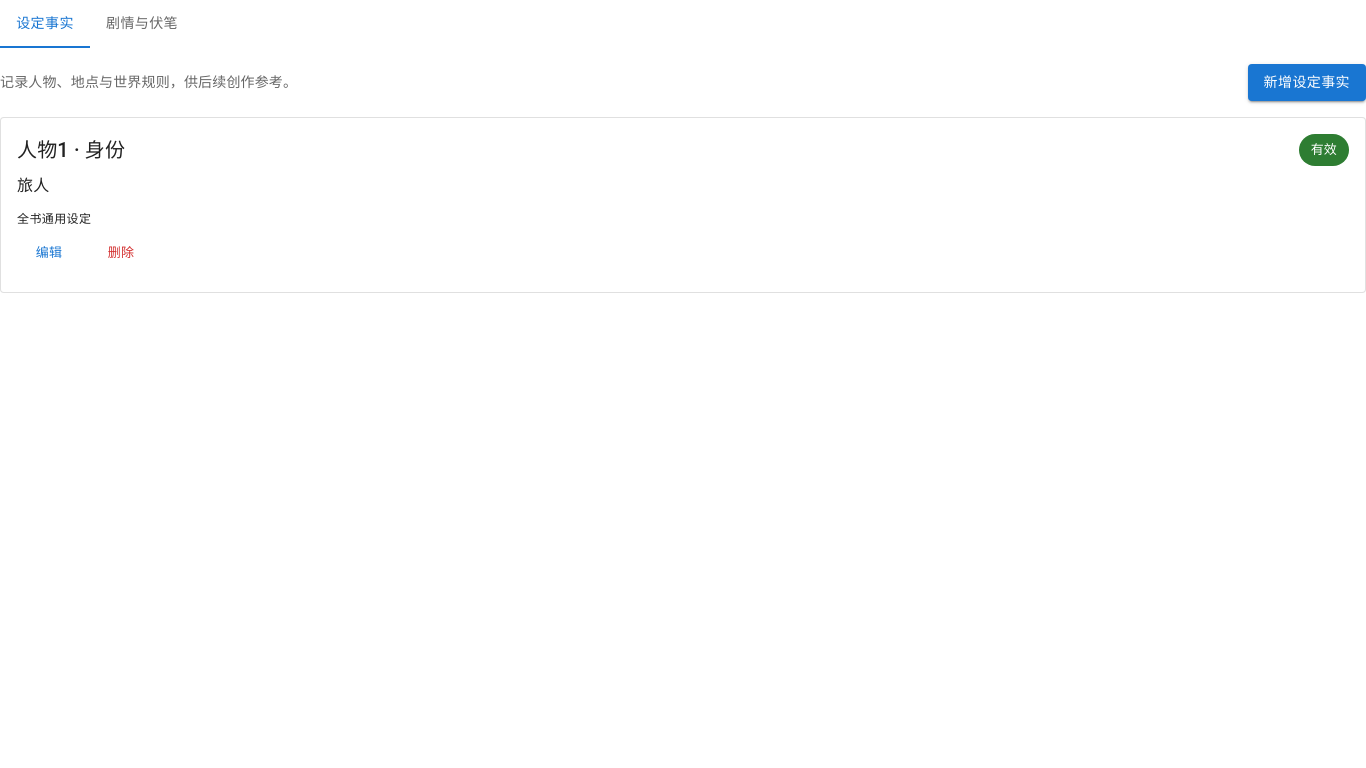
Scenario: 设定账本作者操作 › 删除需要确认，成功后从列表移除
The image size is (1366, 768).
Click the button with aria-label "删除人物1".
click(121, 253)  # box [89,238,153,268]
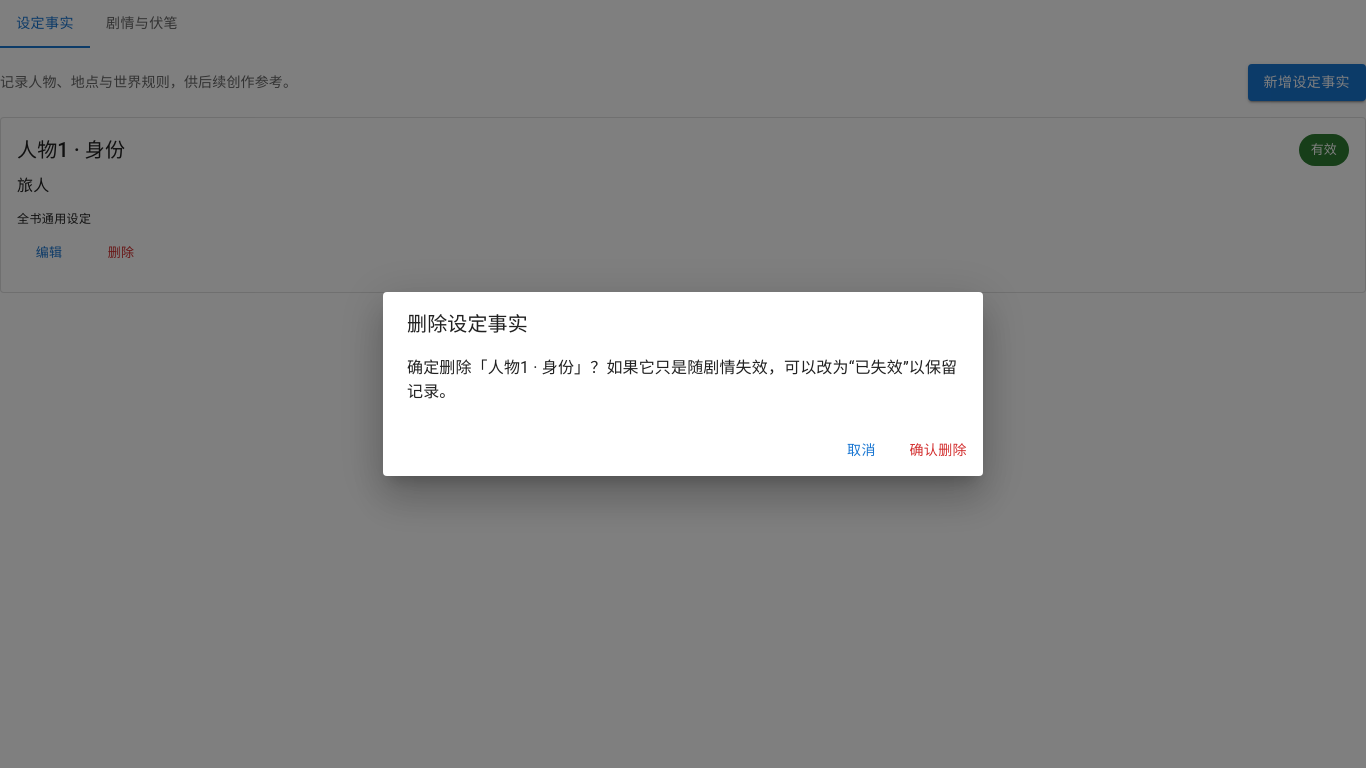
Click the button "确认删除".
click(938, 450)  # box [901,432,975,468]
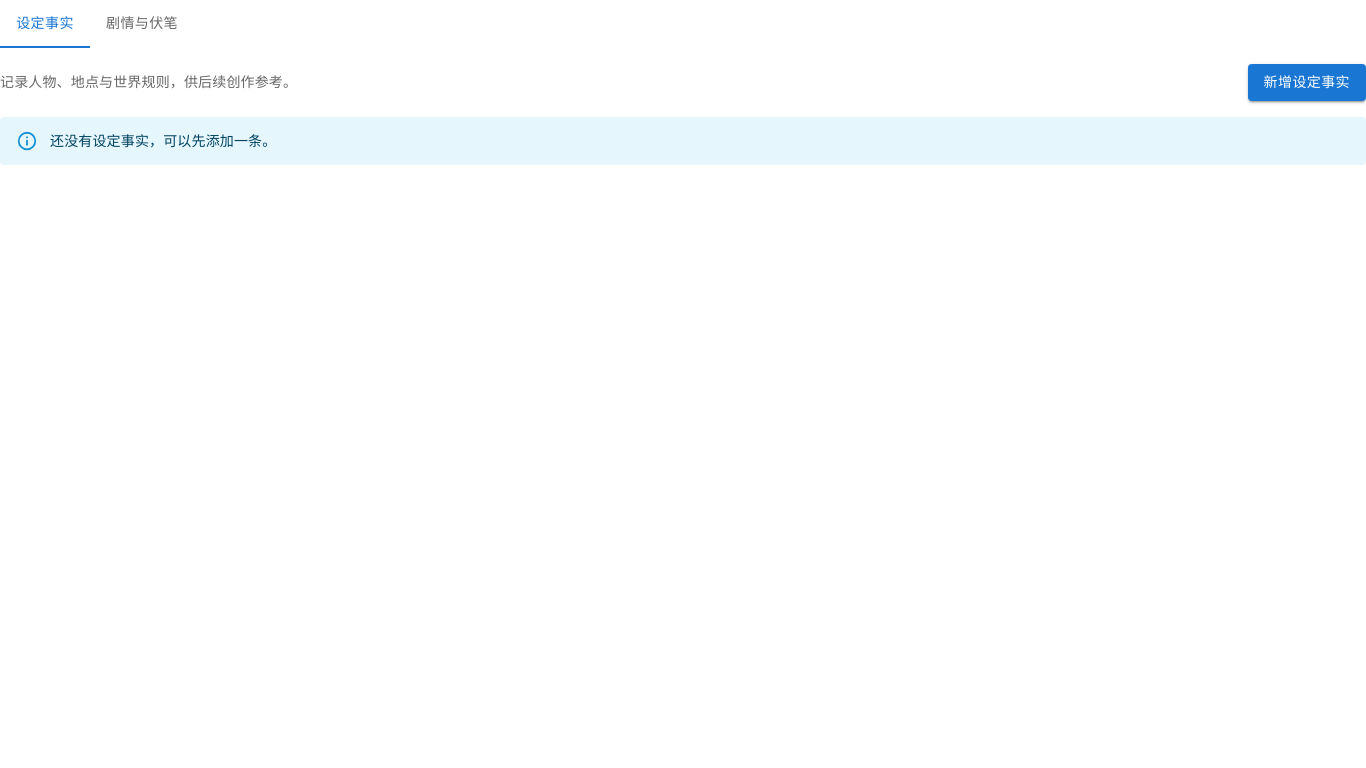
Check: the text "还没有设定事实，可以先添加一条。" is shown, box [50,132,276,148]
